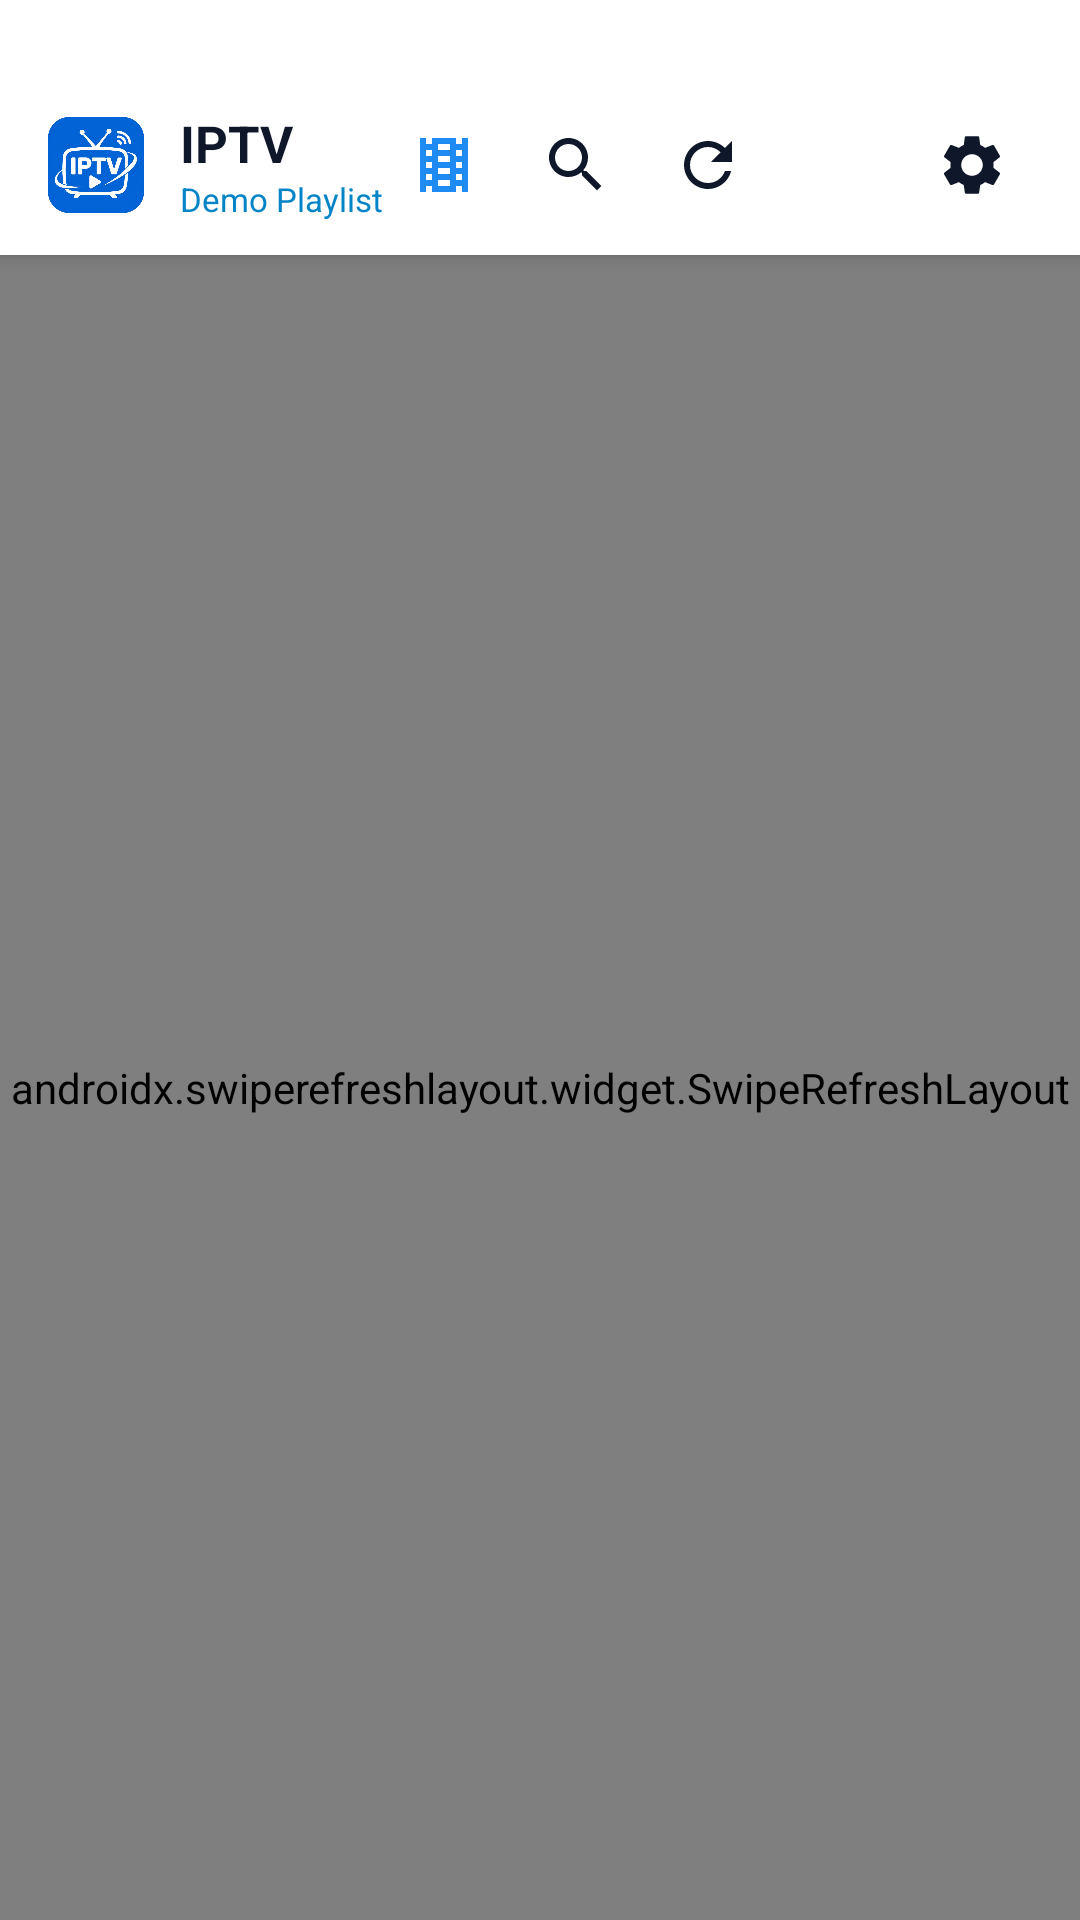

Screen size 1080×1920. Icon name, then its box in pixels as (x1, y1, x2, y2):
Movies and Series: (420, 138, 468, 192)
Refresh Playlist: (684, 141, 732, 189)
Search channels, categories…: (549, 138, 601, 190)
Settings: (944, 136, 1000, 194)
